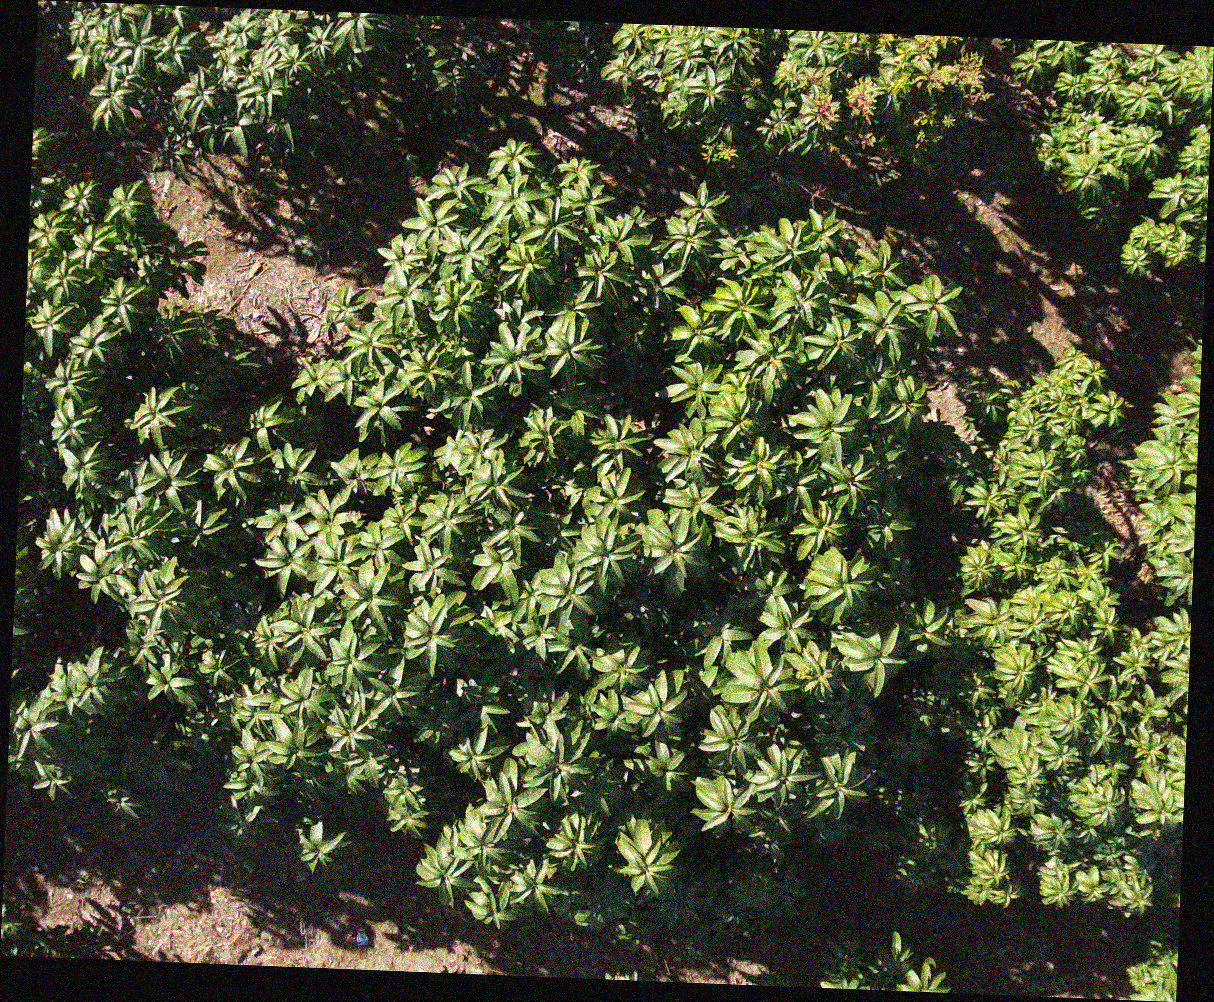flowers: (911, 46, 989, 115), (913, 35, 963, 66), (846, 76, 878, 122), (814, 95, 839, 129), (887, 74, 911, 98), (878, 33, 899, 51), (990, 38, 1011, 50)
